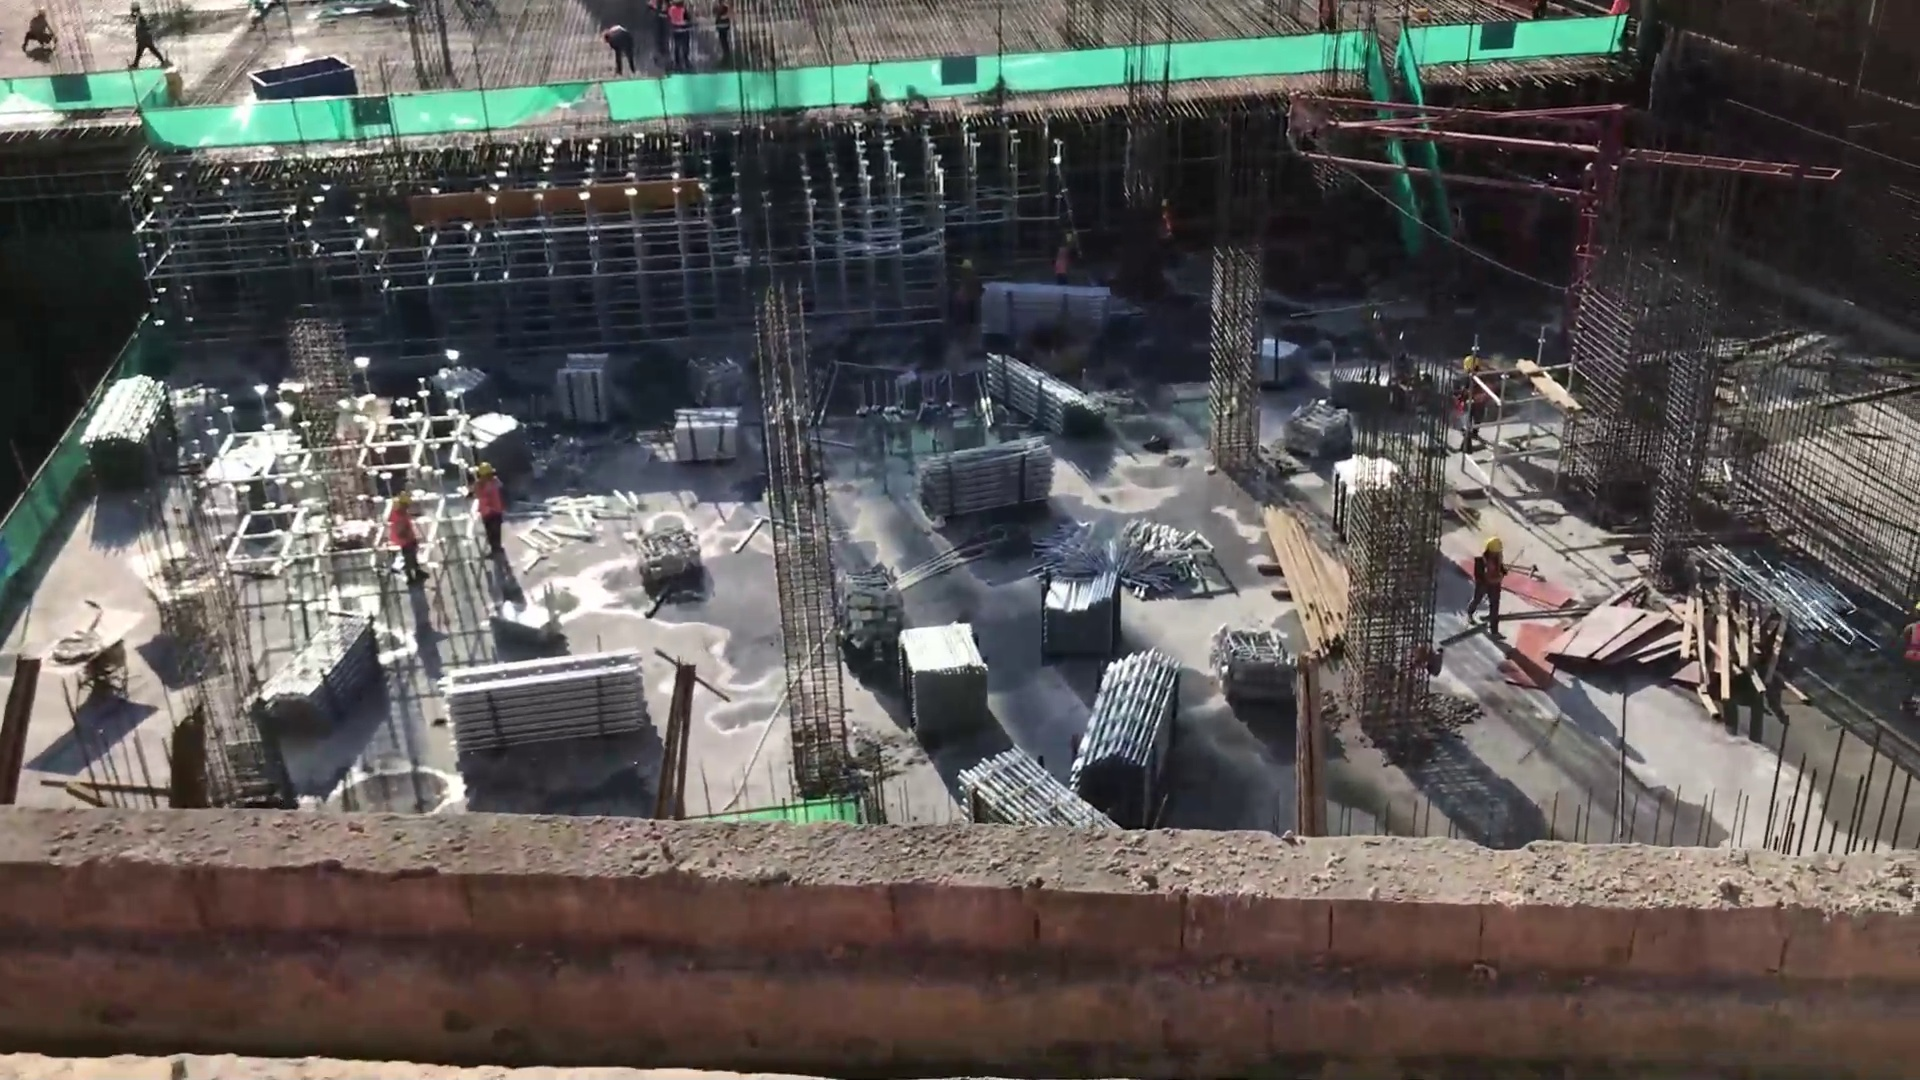board: (1552, 603, 1677, 674)
helmet: (1484, 537, 1504, 552), (1465, 355, 1481, 369), (475, 462, 492, 474), (397, 490, 409, 502)
person: (383, 484, 428, 588), (459, 464, 512, 554), (1475, 535, 1521, 641), (124, 3, 160, 69), (599, 22, 639, 78), (20, 16, 64, 57), (666, 21, 694, 69), (713, 22, 740, 69)
scaffold: (429, 646, 666, 755), (1078, 652, 1187, 829), (253, 606, 369, 731), (969, 750, 1113, 849), (917, 436, 1061, 515), (900, 627, 994, 740), (984, 349, 1109, 430), (980, 284, 1109, 338), (1034, 561, 1131, 632), (88, 375, 156, 454), (550, 356, 616, 427), (672, 412, 740, 463)
vest: (471, 480, 502, 517), (389, 504, 414, 548)
wood: (1258, 506, 1361, 654), (1674, 588, 1779, 722)
